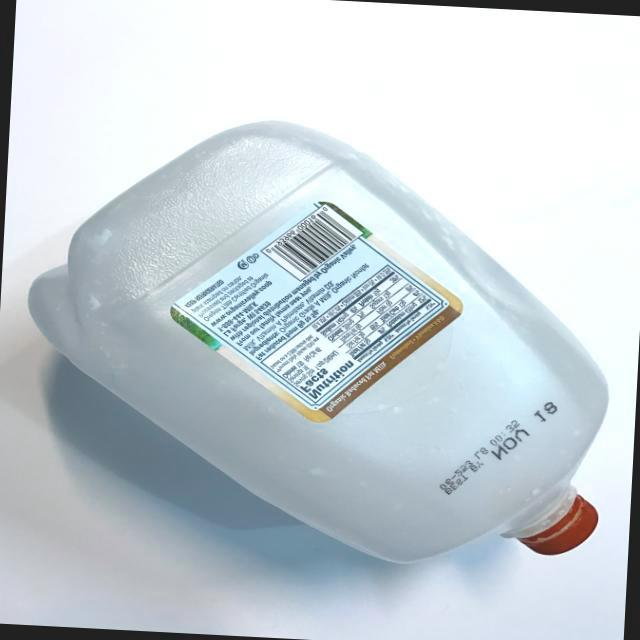plastic: (0, 130, 634, 602)
